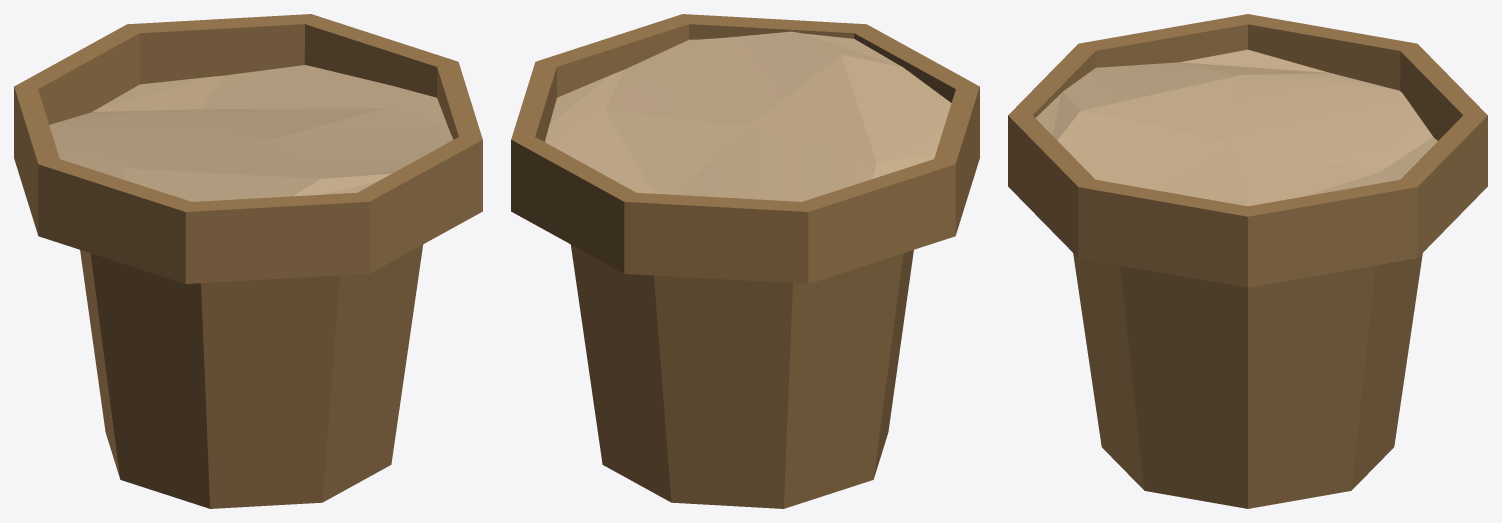
The model's file is bucketsand.fbx.
3 views of the same model, side by side, from view 1: azimuth 30°, elevation 25°; view 2: azimuth 150°, elevation 25°; view 3: azimuth 270°, elevation 25° (orthographic).
Parts seen in each view (by area): view 1: BucketSand; view 2: BucketSand; view 3: BucketSand.
Part boxes in pixels (x1,y1,x2,y2): BucketSand: [14, 14, 482, 508]; BucketSand: [511, 14, 979, 508]; BucketSand: [1008, 14, 1487, 508].
Bounding box in the file's own units: 14.85 × 14.85 × 11.33.
